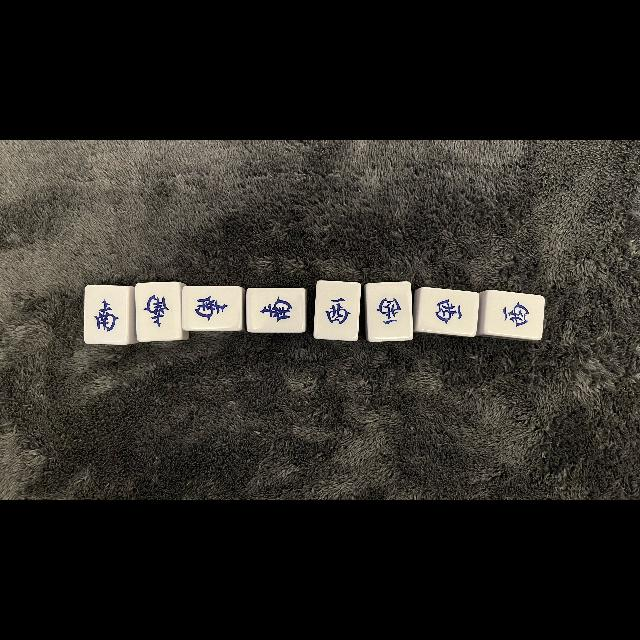ws: (138, 282, 180, 340), (250, 288, 304, 332), (183, 288, 240, 328), (86, 286, 126, 342)
ww: (486, 292, 544, 338), (366, 282, 412, 338), (419, 289, 477, 333), (316, 282, 358, 338)
